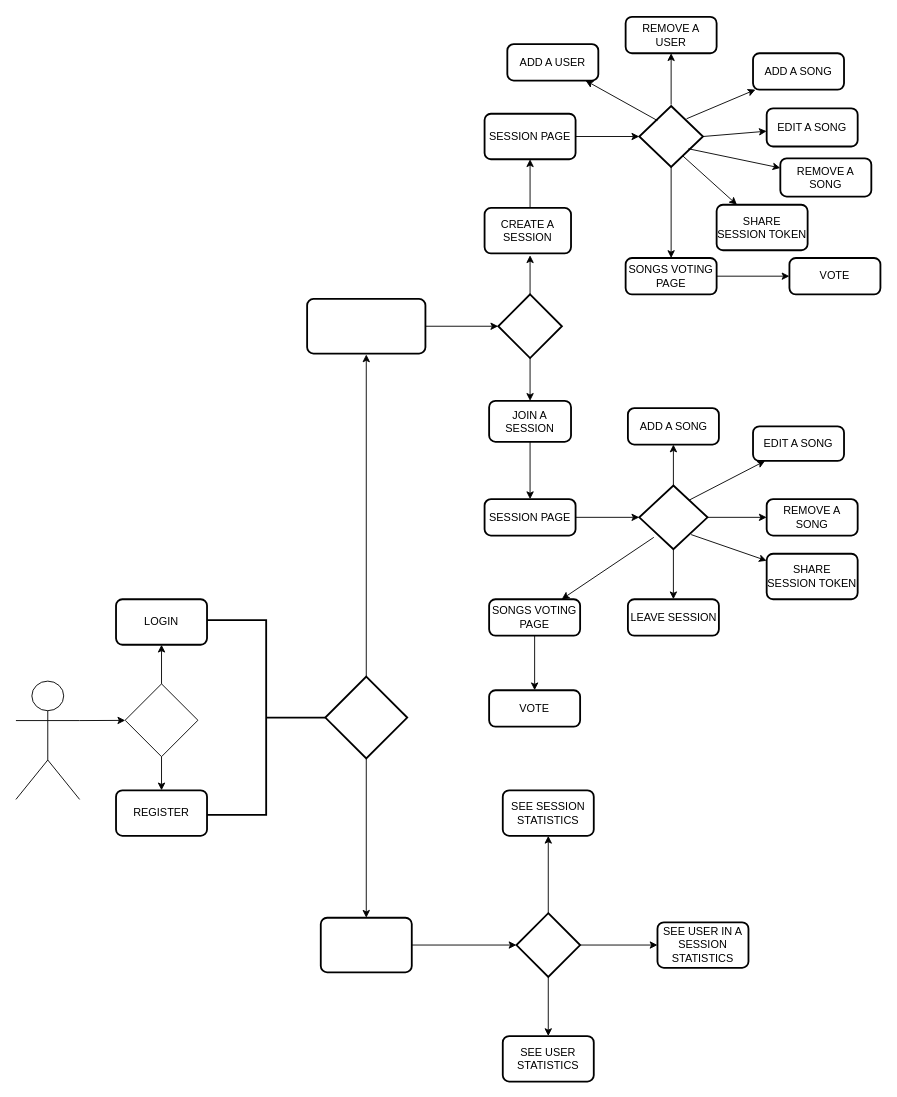
Some shapes in this 897 by 1097 pixel diagram are drawn without their labels. Each missing label, with the centre of its shape:
PARTY ENTERING: point (366, 326)
STATISTICS PAGE: point (365, 944)
User: point (47, 739)
